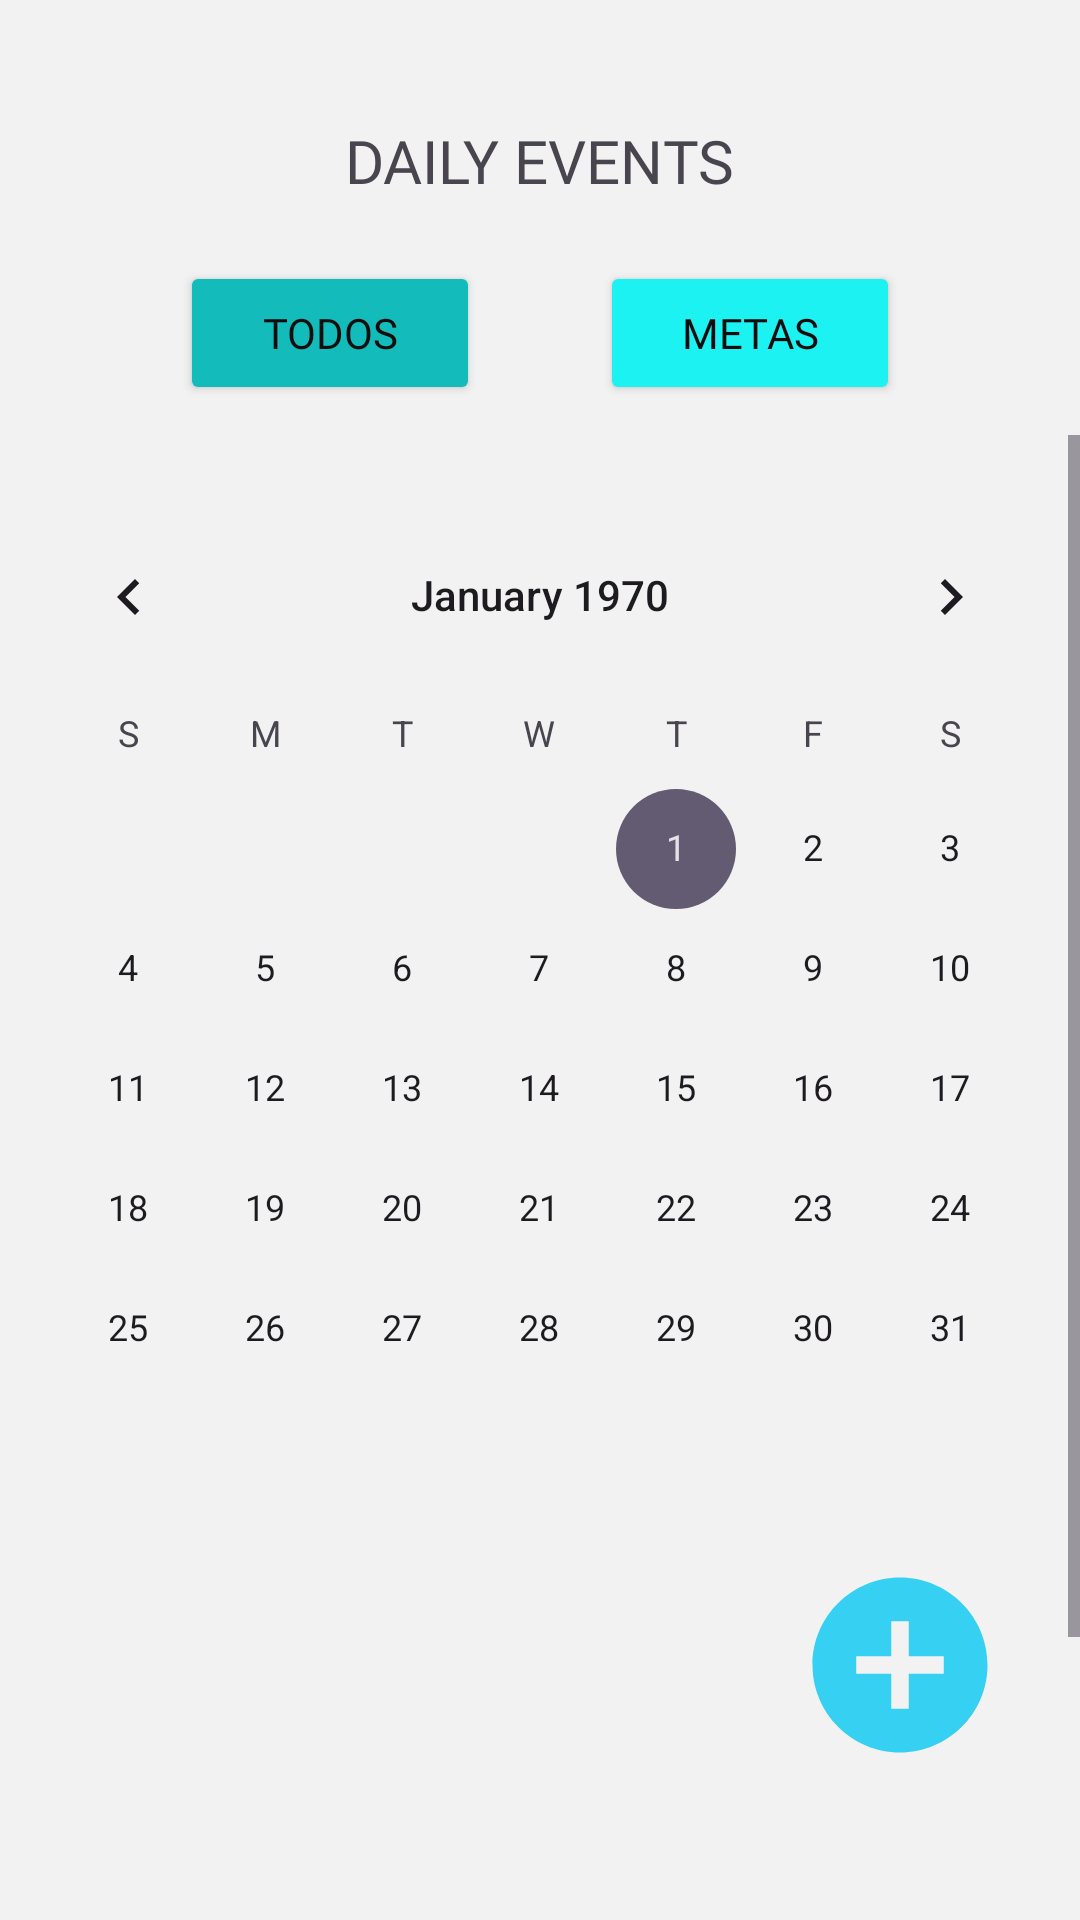

Point at icon controls on the screen. Image size 1080w x 1920h, points as (x=x, y=y).
add: (x=900, y=1665)
